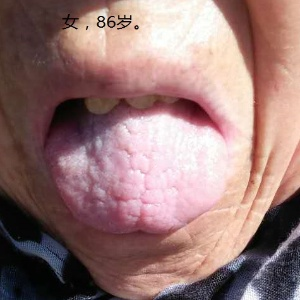st: (51, 118, 230, 238)
